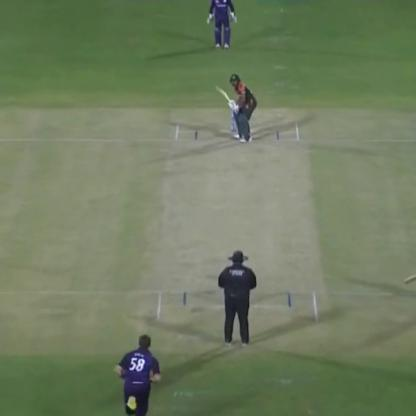bat: (210, 83, 233, 110)
pitch: (157, 124, 308, 326)
